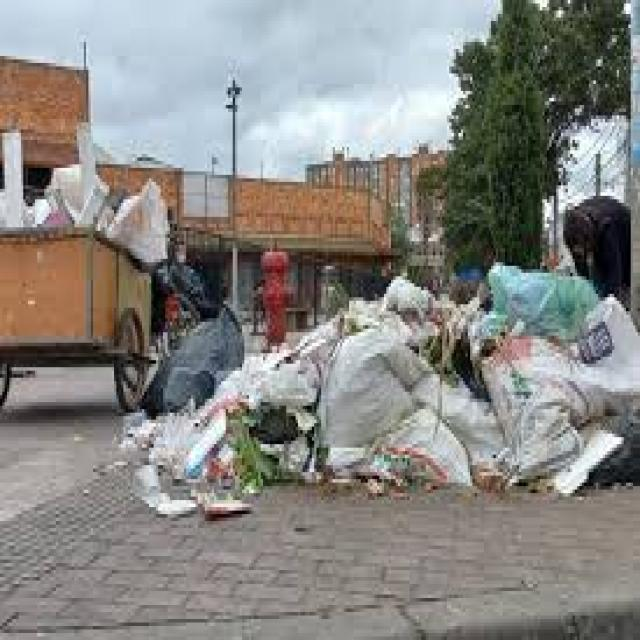garbage: (99, 242, 640, 524), (0, 133, 182, 290)
